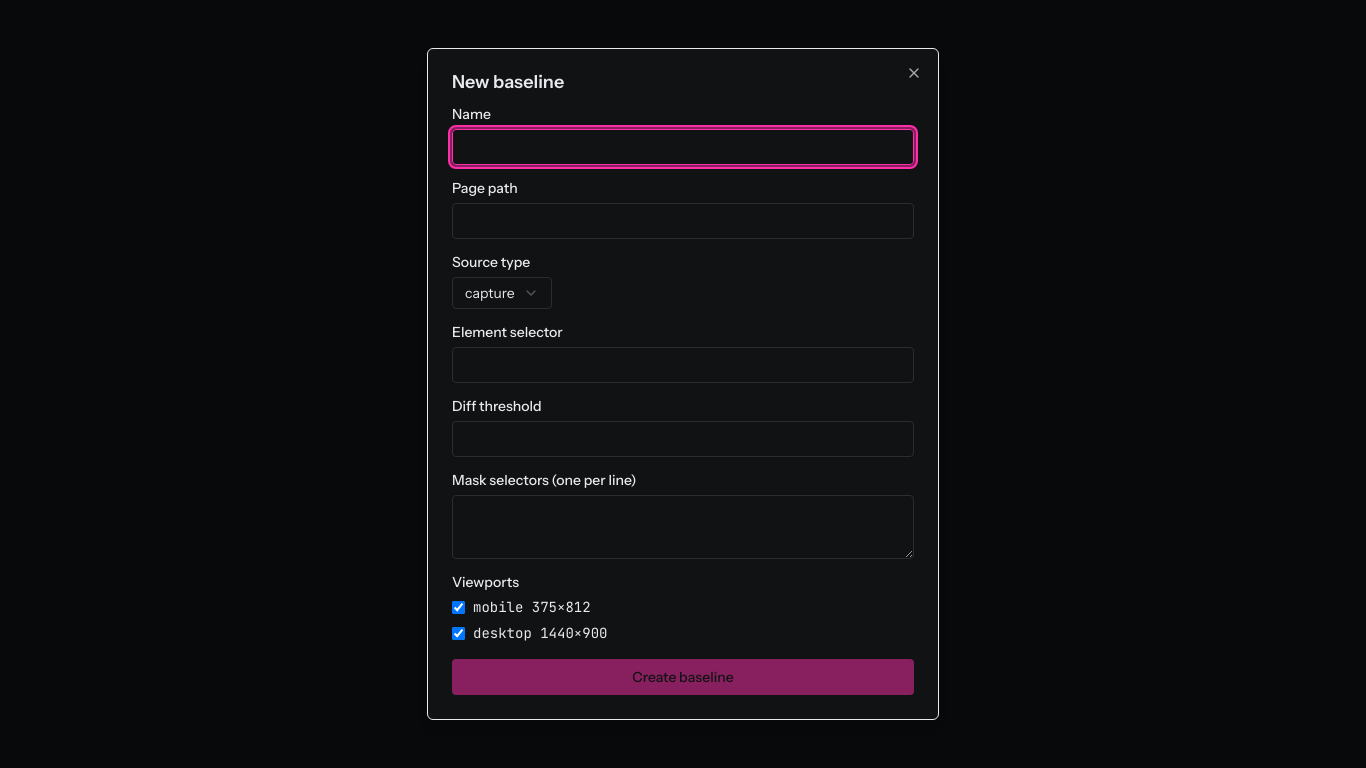
it: BaselineDialog › disables submit in create mode when no viewport is selected
Type "home" into the field labelled "Name" at (683, 147), box [452,129,914,165]
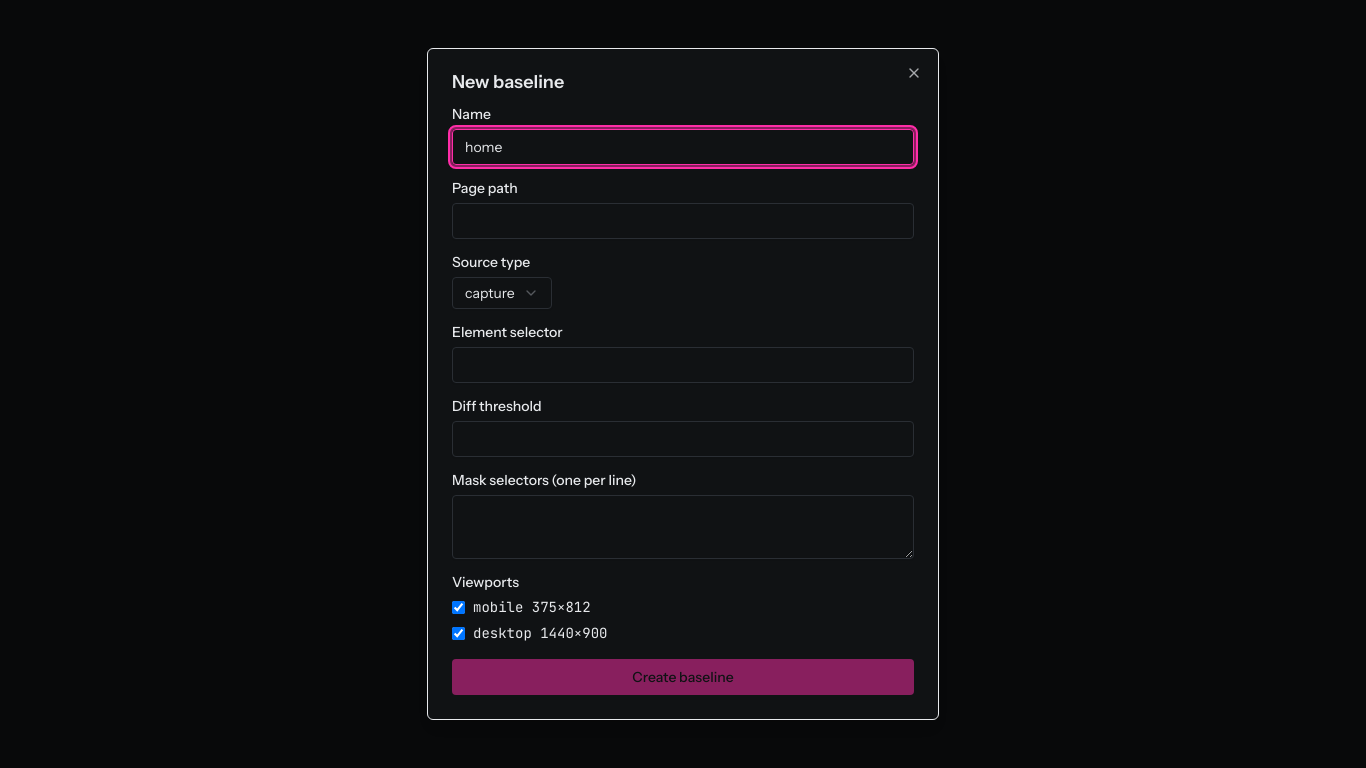
Type "/home" into the field labelled "Page path" at (683, 221), box [452,203,914,239]
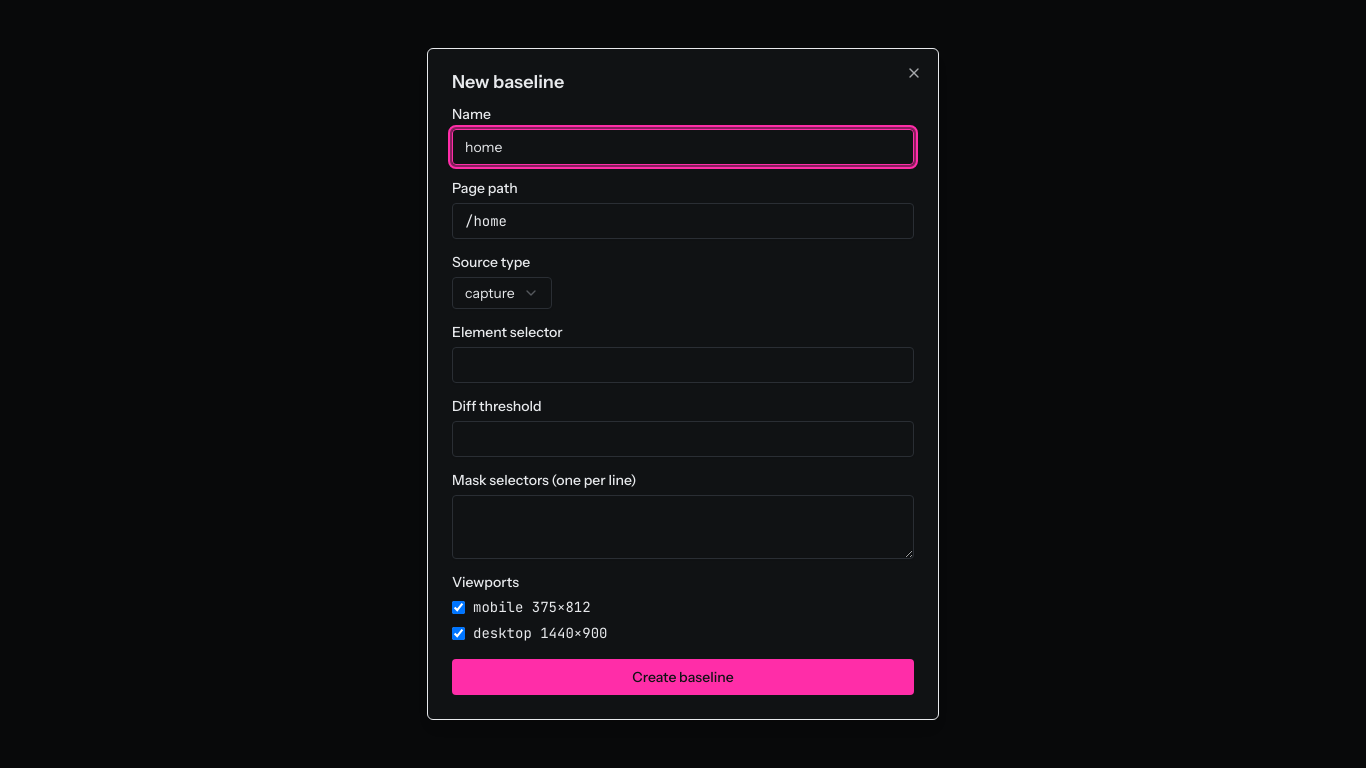
Click the checkbox labelled "mobile 375×812" at (458, 607), box [452,600,465,614]
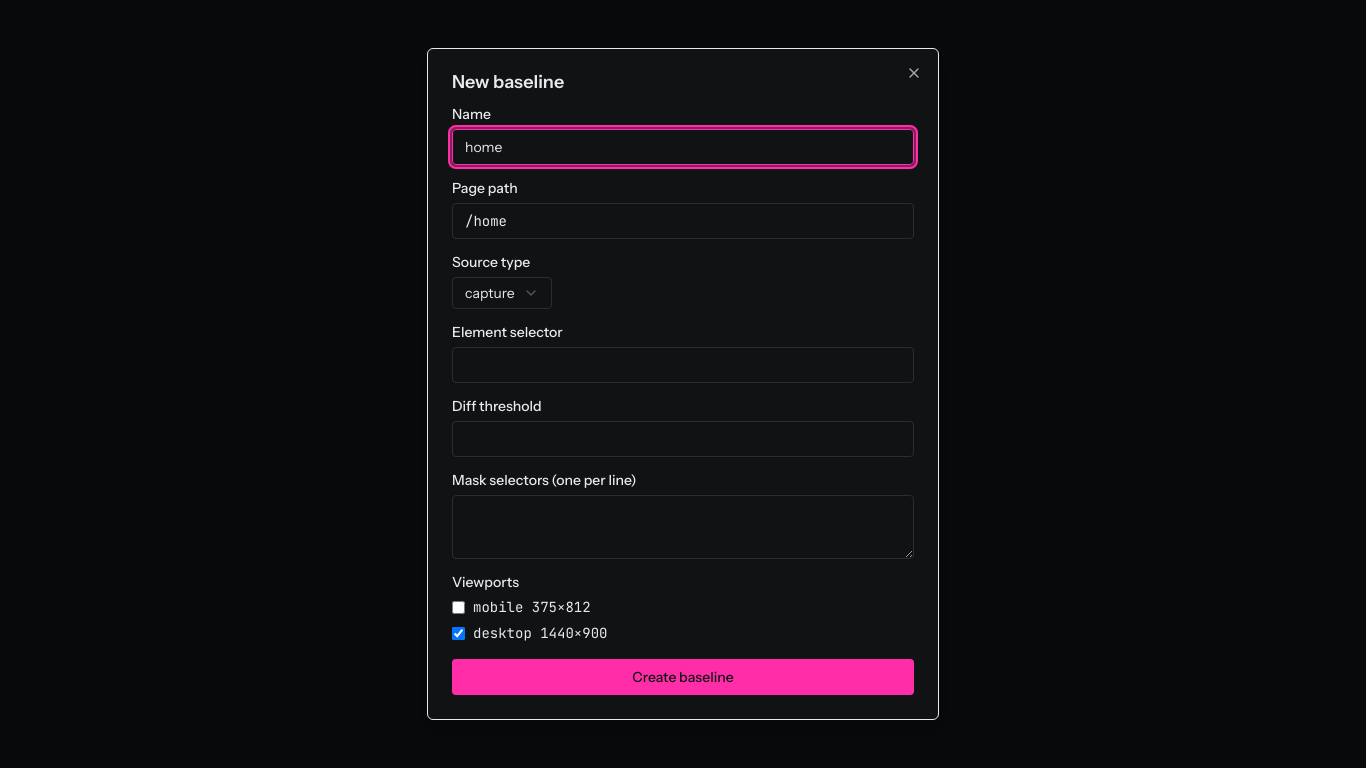
Click the checkbox labelled "desktop 1440×900" at (458, 633), box [452,626,465,640]
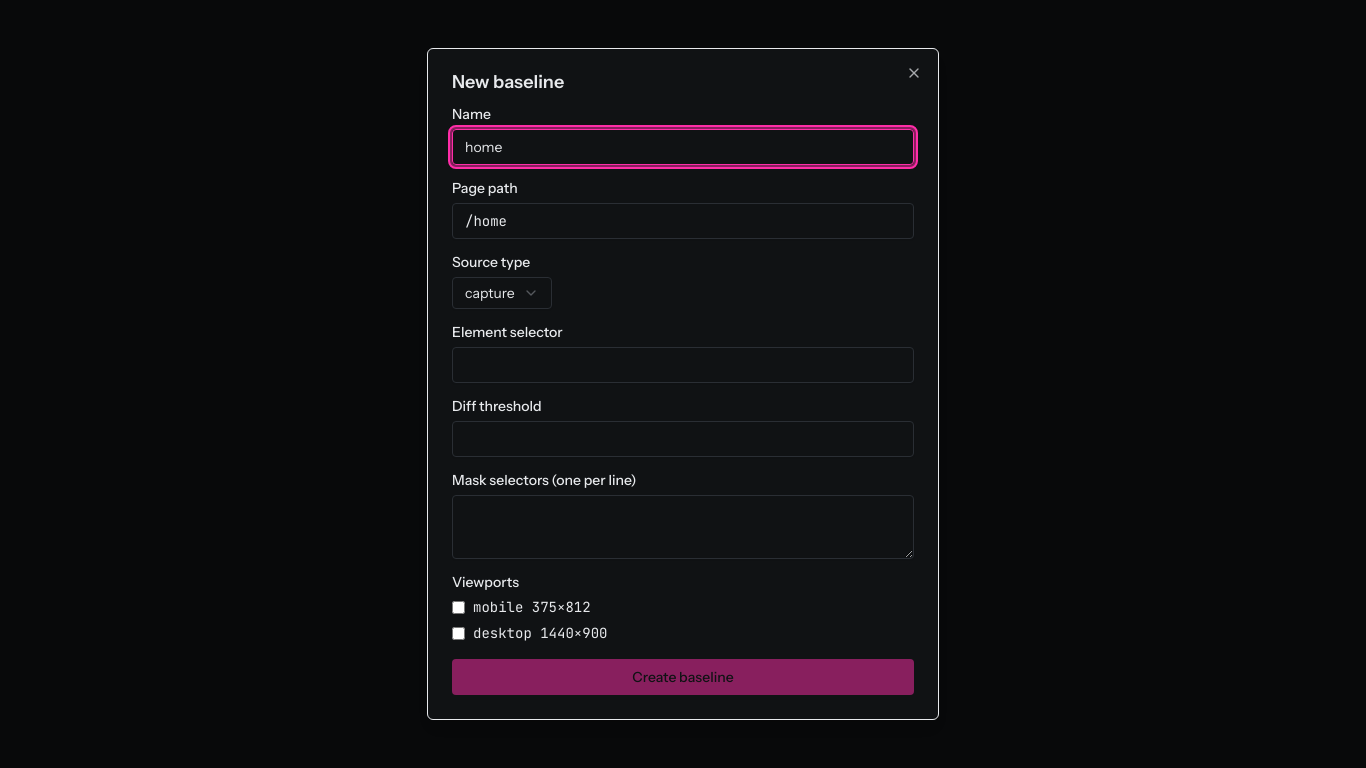
Check: the button "Create baseline" is disabled, box [452,659,914,695]
Click the checkbox labelled "mobile 375×812" at (458, 607), box [452,600,465,614]
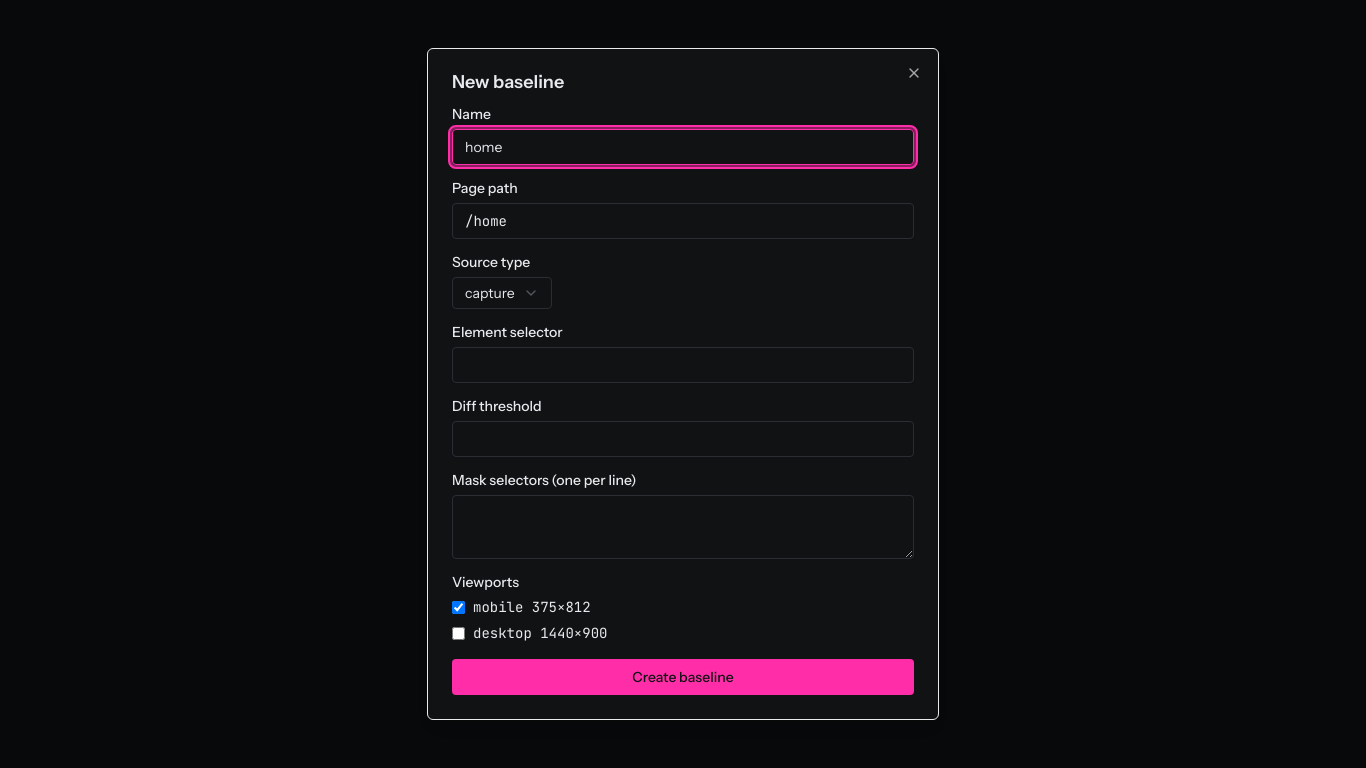
Check: the button "Create baseline" is enabled, box [452,659,914,695]
